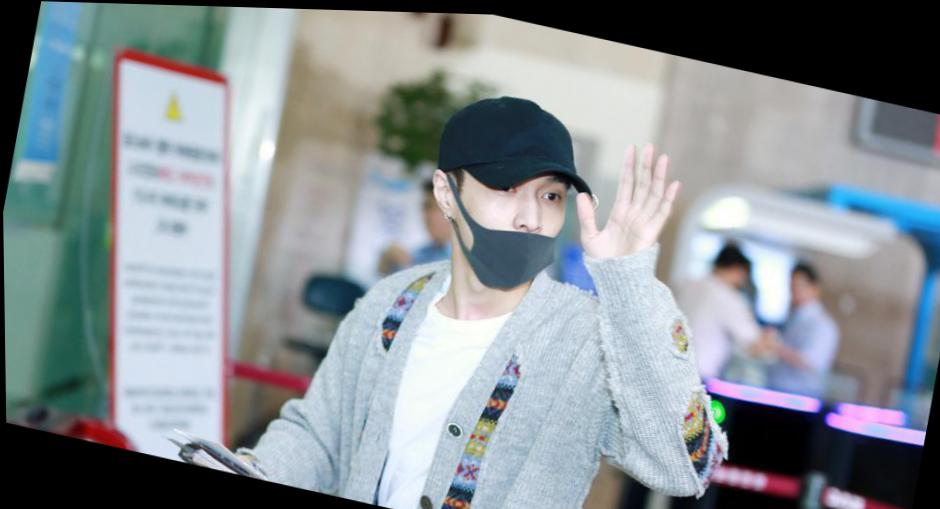WRONG: (441, 142, 578, 299)
